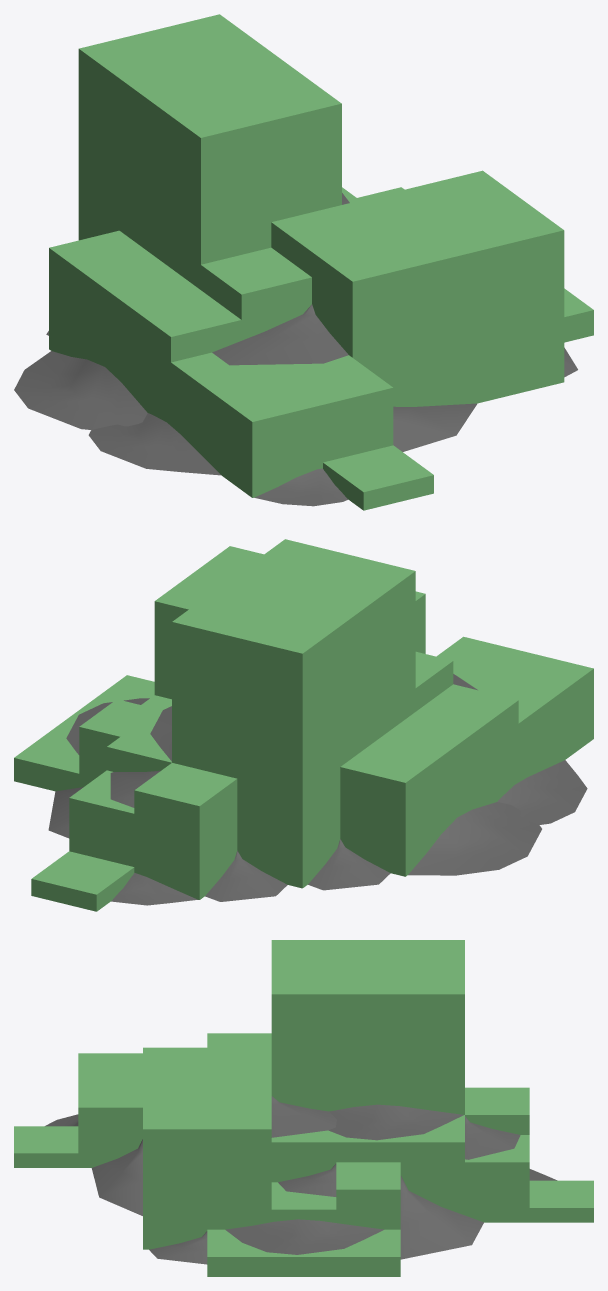
Rendered from Mountain_C.fbx.
3 views of the same model, one above another, from view 1: azimuth 30°, elevation 25°; view 2: azimuth 150°, elevation 25°; view 3: azimuth 270°, elevation 25° (orthographic). The views are drawn at different scales.
Visible parts, largest first — view 1: SM_Cube_1m3, SM_Cube_1m18, SM_Cube_1m27, SM_Cube_1m25, pDisc6, SM_Cube_1m26, SM_Cube_1m32, pCone21, pDisc5, pCone1, pDisc7, SM_Cube_1m24; view 2: SM_Cube_1m3, SM_Cube_1m25, SM_Cube_1m21, SM_Cube_1m27, pDisc6, SM_Cube_1m18, SM_Cube_1m20, SM_Cube_1m24, SM_Cube_1m31, pDisc5, SM_Cube_1m22, SM_Cube_1m19 (+8 smaller); view 3: SM_Cube_1m3, SM_Cube_1m18, SM_Cube_1m19, SM_Cube_1m27, SM_Cube_1m24, SM_Cube_1m20, SM_Cube_1m22, pCone12, pDisc3, pDisc4, SM_Cube_1m31, SM_Cube_1m21 (+9 smaller).
Part boxes in pixels (x1,y1,x2,y2): SM_Cube_1m3: (78, 14, 341, 289); SM_Cube_1m18: (271, 170, 564, 406); SM_Cube_1m27: (171, 352, 393, 497); SM_Cube_1m25: (49, 230, 241, 425); pDisc6: (14, 351, 147, 429); SM_Cube_1m26: (201, 247, 311, 340); SM_Cube_1m32: (323, 445, 433, 510); pCone21: (212, 304, 348, 365); pDisc5: (88, 413, 220, 475); pCone1: (393, 403, 477, 451); pDisc7: (254, 468, 347, 506); SM_Cube_1m24: (564, 288, 593, 342); SM_Cube_1m3: (172, 539, 415, 888); SM_Cube_1m25: (340, 684, 518, 876); SM_Cube_1m21: (134, 763, 237, 899); SM_Cube_1m27: (436, 636, 593, 781); pDisc6: (408, 802, 541, 875); SM_Cube_1m18: (154, 546, 425, 699); SM_Cube_1m20: (69, 770, 134, 866); SM_Cube_1m24: (14, 675, 154, 791); SM_Cube_1m31: (31, 851, 134, 911); pDisc5: (497, 760, 587, 824); SM_Cube_1m22: (79, 699, 157, 787); SM_Cube_1m19: (107, 699, 171, 771); SM_Cube_1m3: (271, 940, 464, 1114); SM_Cube_1m18: (143, 1047, 271, 1249); SM_Cube_1m19: (271, 1115, 464, 1215); SM_Cube_1m27: (78, 1053, 142, 1167); SM_Cube_1m24: (207, 1229, 400, 1276); SM_Cube_1m20: (465, 1135, 529, 1222); SM_Cube_1m22: (336, 1162, 400, 1229); pCone12: (400, 1175, 483, 1259); pDisc3: (225, 1219, 383, 1254); pDisc4: (328, 1104, 463, 1140); SM_Cube_1m31: (529, 1180, 593, 1222); SM_Cube_1m21: (465, 1087, 529, 1134).
Size of the model in its own units: 2833 by 1375 by 3600.
